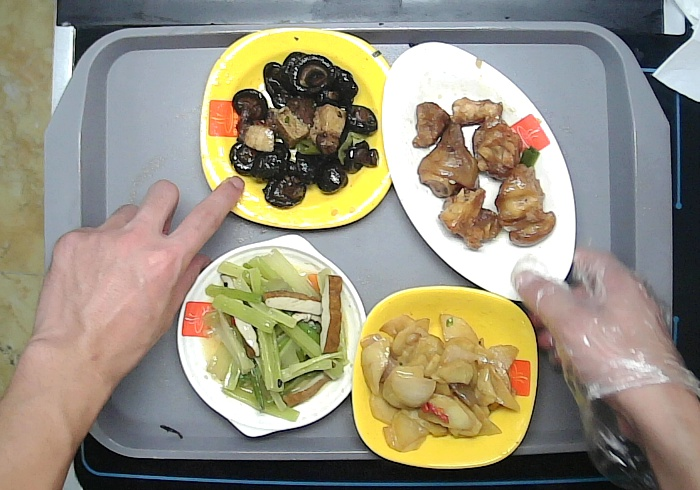SHKJ-Bao_Yu_Pan: (176, 235, 366, 436)
SHKJ-Huang_Se_Cai_Die: (352, 283, 539, 467)
SHKJ-Huang_Se_Si_Fang_Cai_Die: (199, 27, 394, 231)
SHKJ-Yu_Pan: (381, 42, 577, 302)
